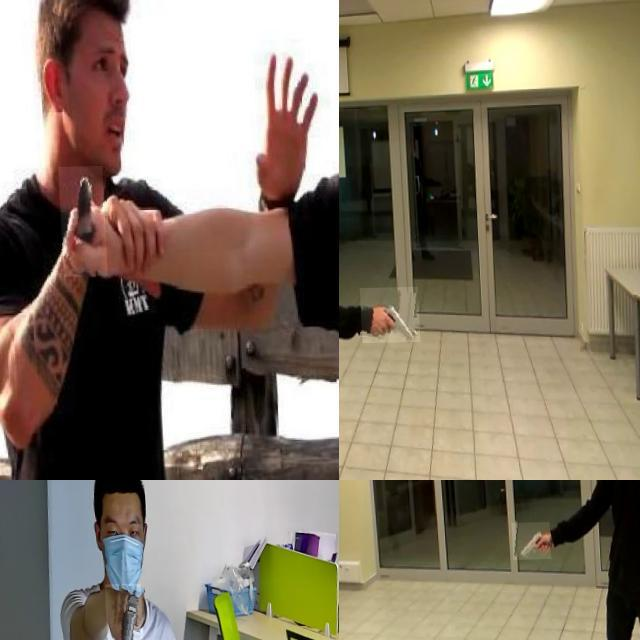-: (56, 166, 104, 278)
gun-knife-thesis - v11 Yolov5 augmented: (356, 288, 416, 344), (101, 585, 142, 640), (507, 524, 547, 562)
